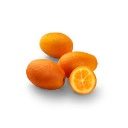orange: (25, 58, 67, 90), (69, 63, 98, 95)
